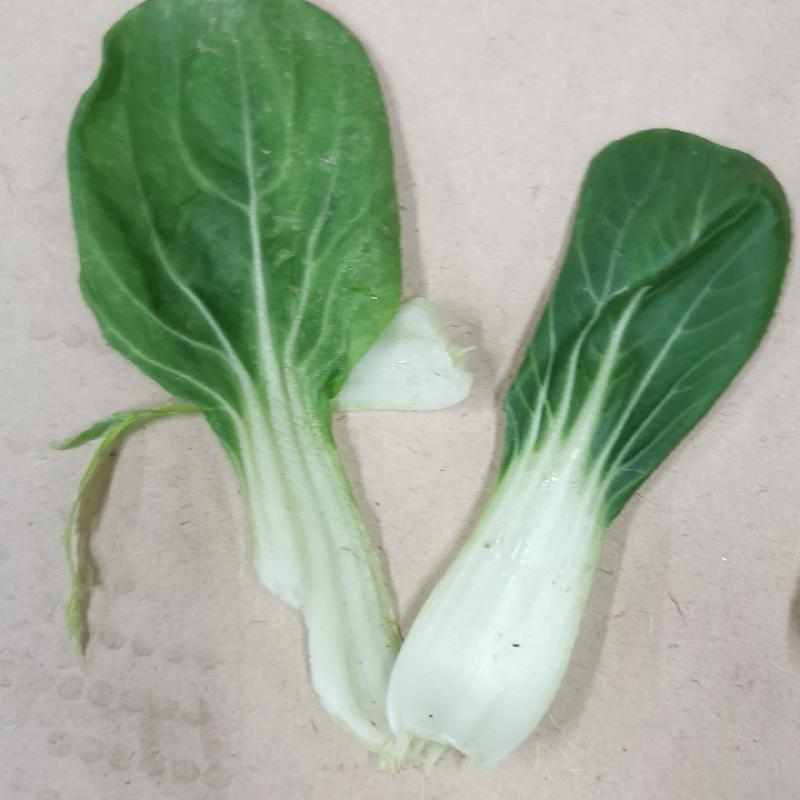green vegatable: (60, 0, 791, 775)
